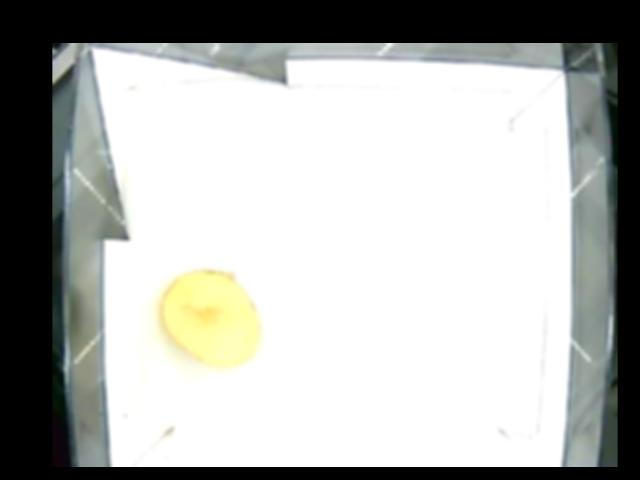Potato: (160, 269, 261, 367)
